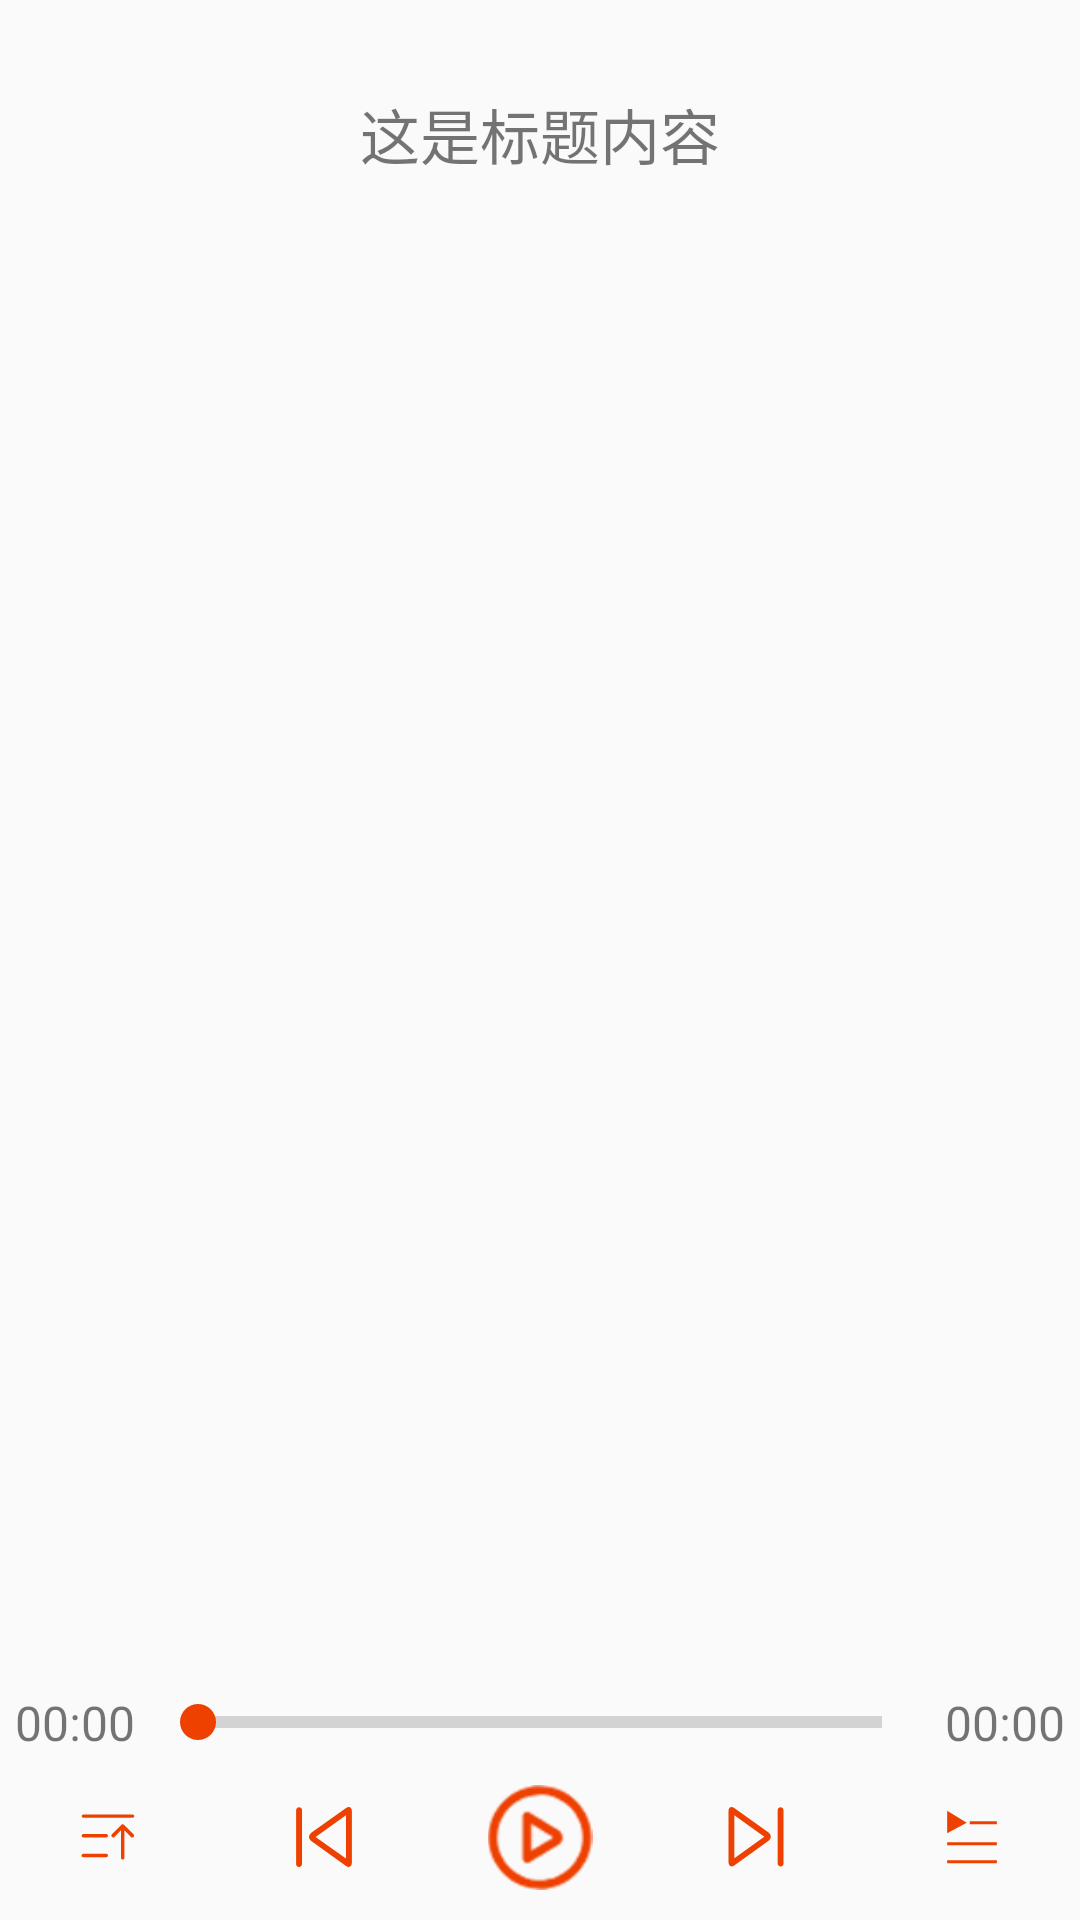

Icon bounding boxes for this 1080 x 1920 phone screenshot, format (x1, y1, x2, y2):
palyer list: (947, 1811, 997, 1864)
palyer next: (728, 1807, 784, 1867)
palyer play: (488, 1785, 593, 1890)
palyer pre: (296, 1807, 352, 1867)
play mode list revers: (81, 1814, 135, 1860)
